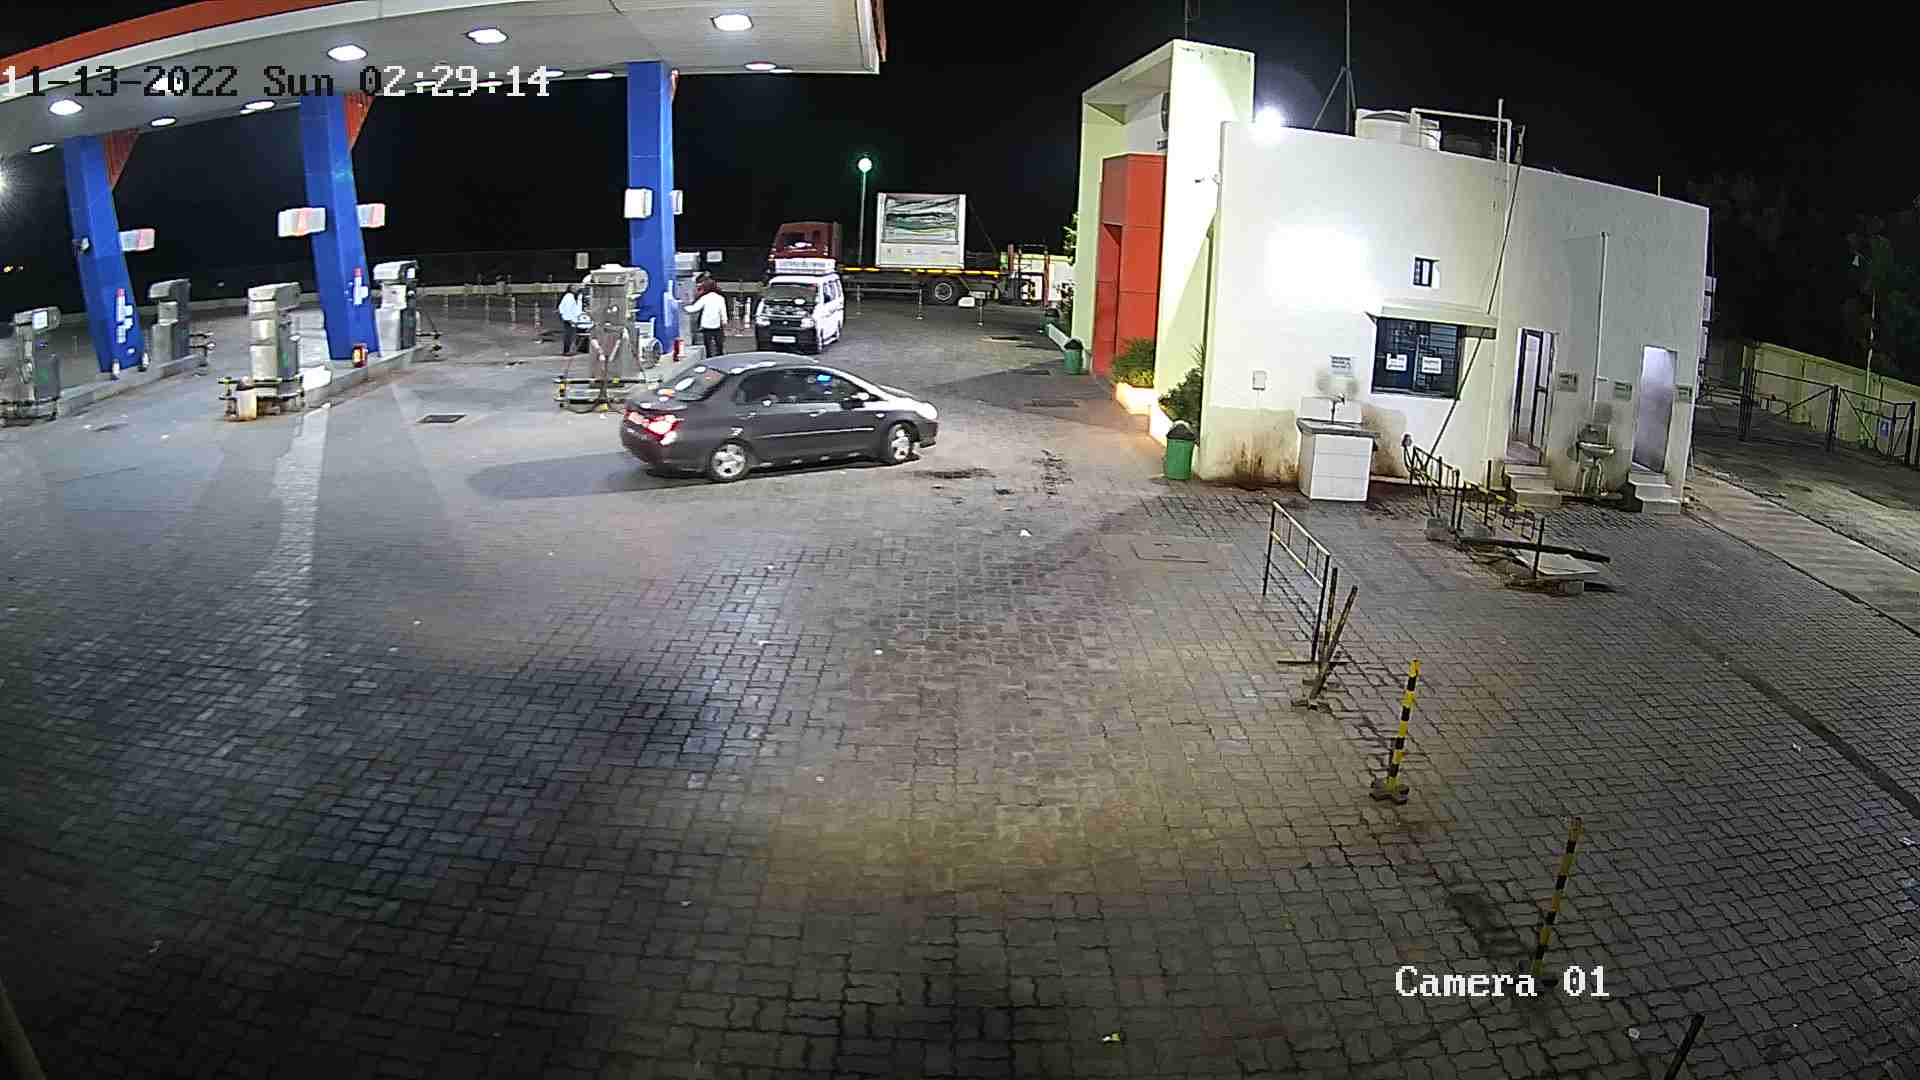Car: (615, 342, 943, 487), (744, 248, 853, 357), (560, 257, 618, 360)
HMV: (757, 185, 1044, 307)
